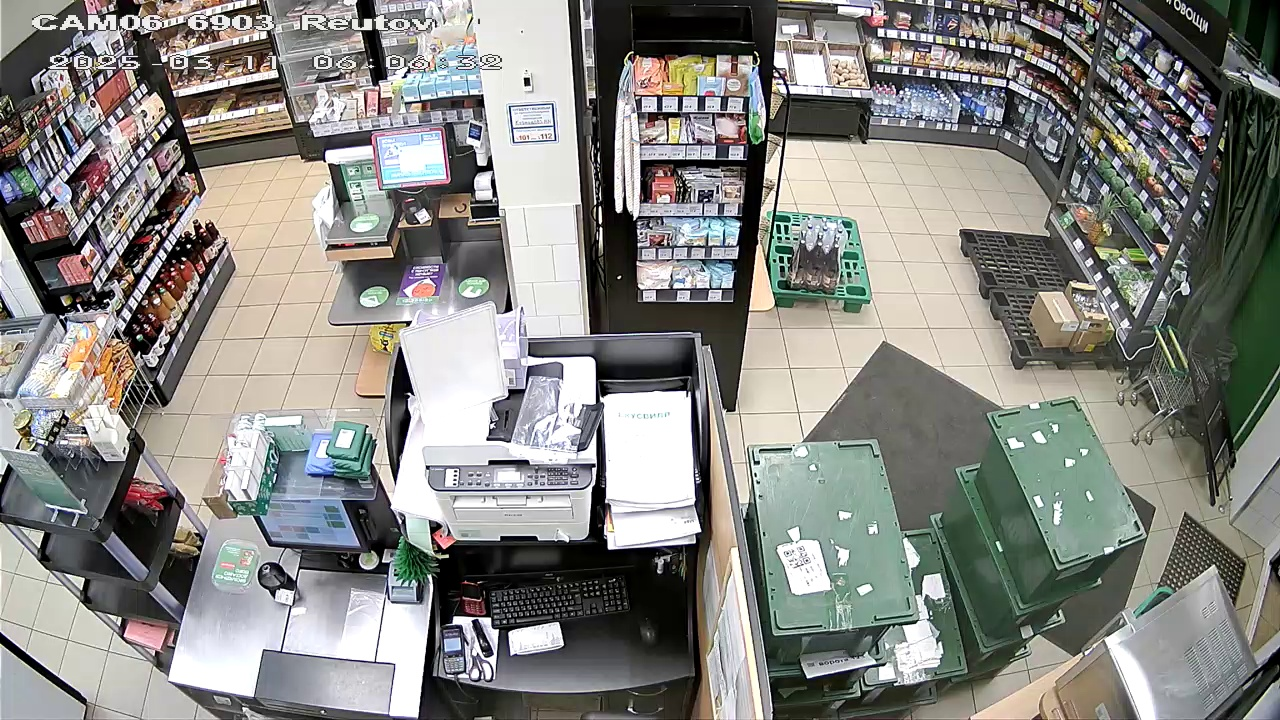pallet: (952, 223, 1133, 367)
